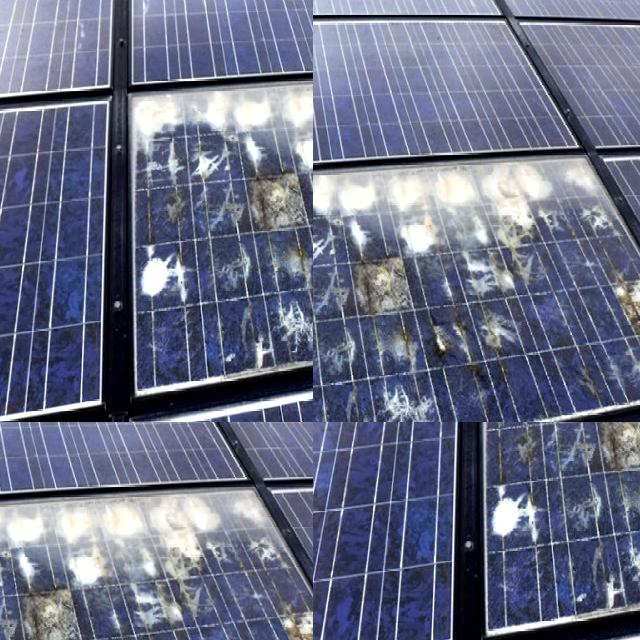bird: (368, 332, 640, 422), (193, 216, 294, 352), (313, 330, 418, 422), (0, 229, 76, 330), (203, 120, 260, 178), (0, 386, 87, 422)
hotspot: (481, 454, 532, 574), (487, 422, 640, 449), (593, 422, 640, 498), (585, 532, 640, 595)
panel: (0, 422, 92, 468)
